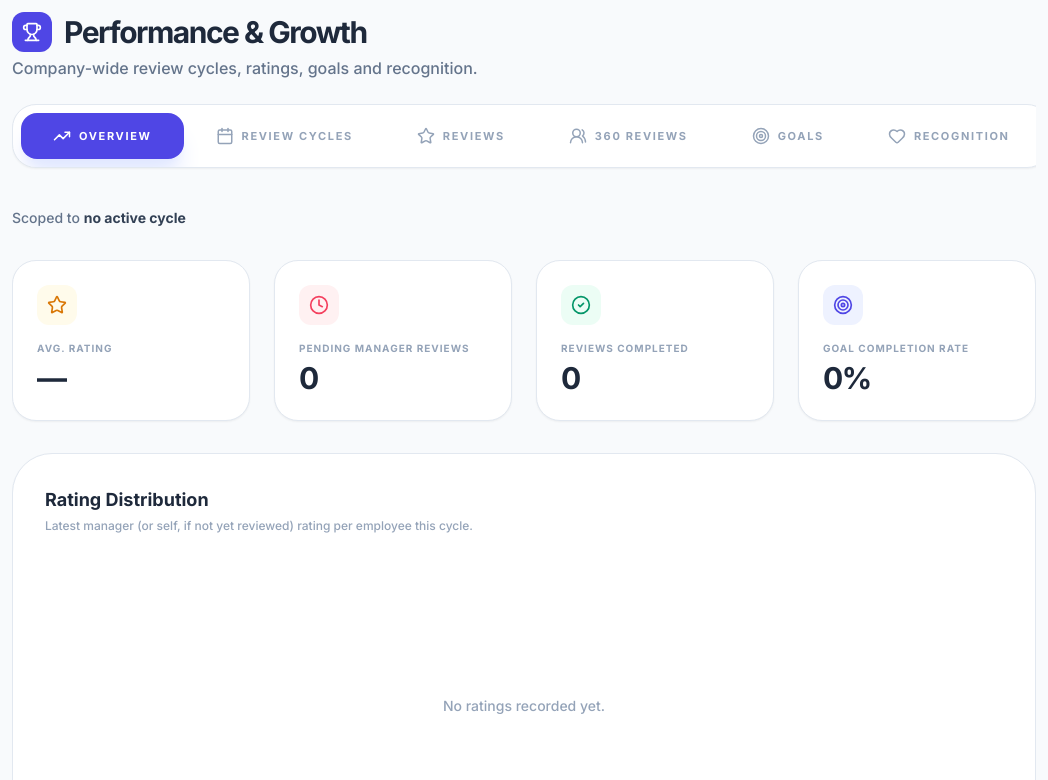
Test case: PerformanceManagement (admin) › Review Cycles tab › shows the empty state when there are no cycles
Click the button "Review Cycles": click(284, 136) [184,113,385,159]
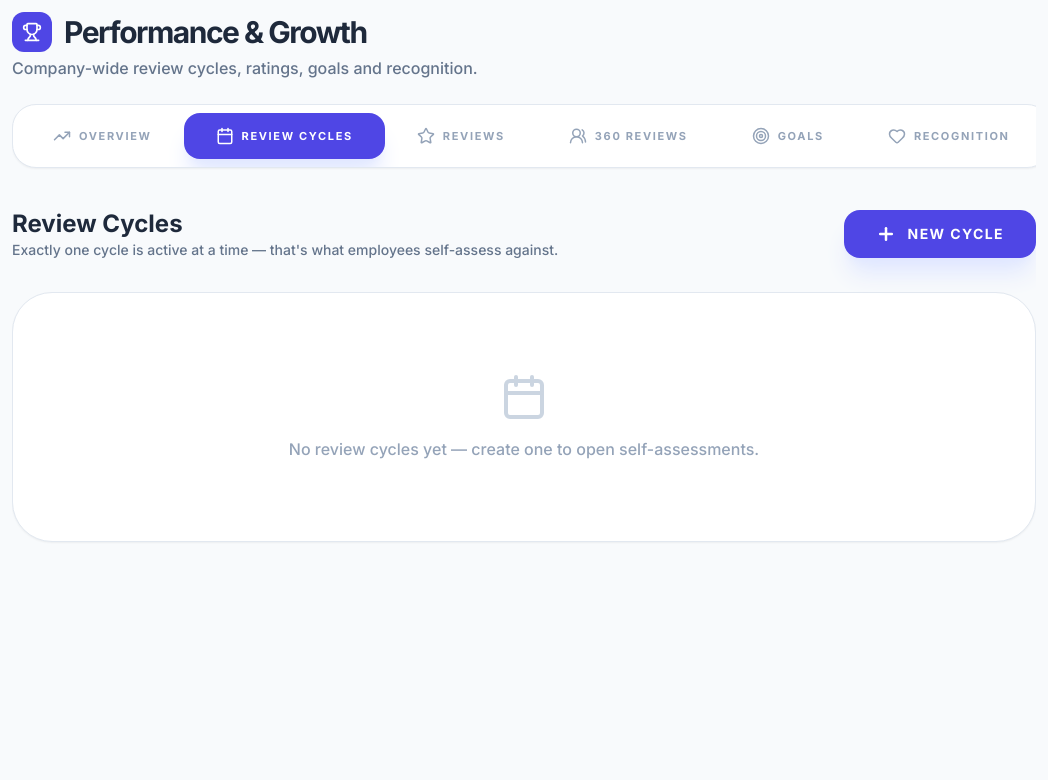
Expected: the text "No review cycles yet — create one to open self-assessments." is shown, [289,439,759,459]
